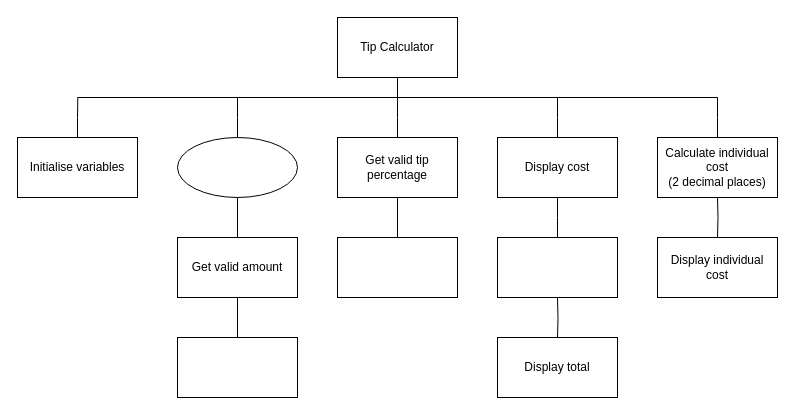
Image size: 795x415. Some labels were removed from this diagram. Each missing label, with the box of its shape:
Add amount to cost: (176, 336, 298, 398)
Calculate tip (2 decimal places): (336, 236, 458, 298)
Display tip: (496, 236, 618, 298)
Repeat 4 times: (176, 136, 298, 198)
